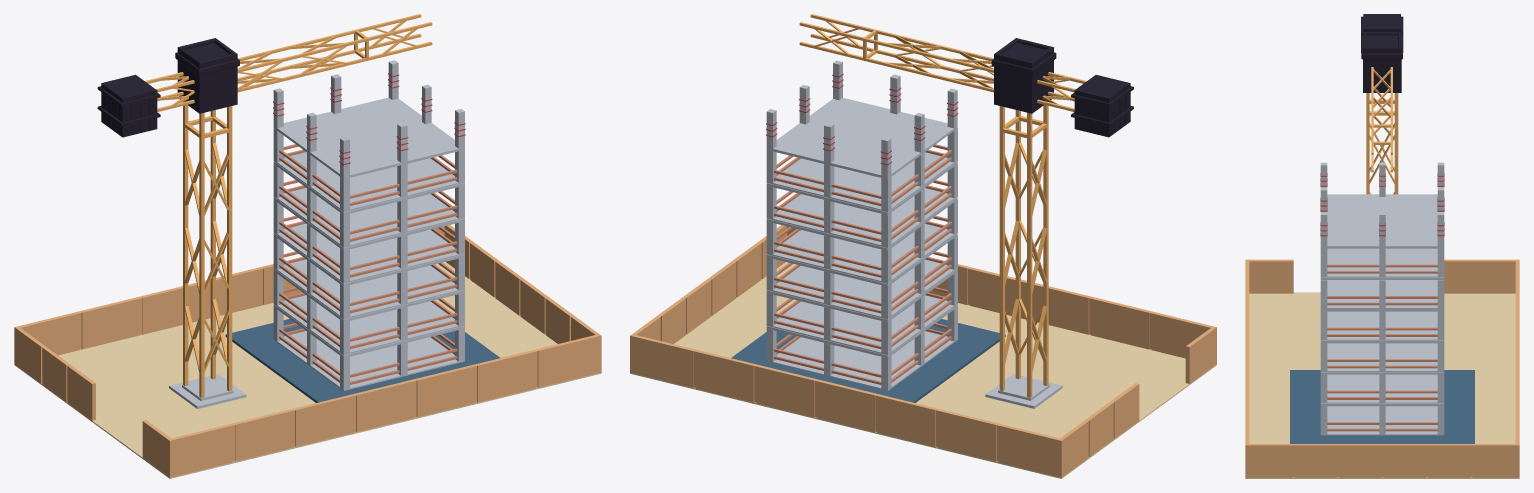
The model's file is industrial-buildings-inconstruction-building.fbx.
The picture shows the model from 3 angles, left to right: view 1: azimuth 30°, elevation 25°; view 2: azimuth 150°, elevation 25°; view 3: azimuth 270°, elevation 25°; orthographic projection. The views are drawn at different scales.
Parts seen in each view (by area): view 1: industrial-buildings-inconstruction-building; view 2: industrial-buildings-inconstruction-building; view 3: industrial-buildings-inconstruction-building.
Part boxes in pixels (x1,y1,x2,y2): industrial-buildings-inconstruction-building: (14, 14, 601, 478); industrial-buildings-inconstruction-building: (630, 14, 1216, 478); industrial-buildings-inconstruction-building: (1245, 14, 1519, 478).
Size of the model in its own units: 35.58 by 27.07 by 22.19.
